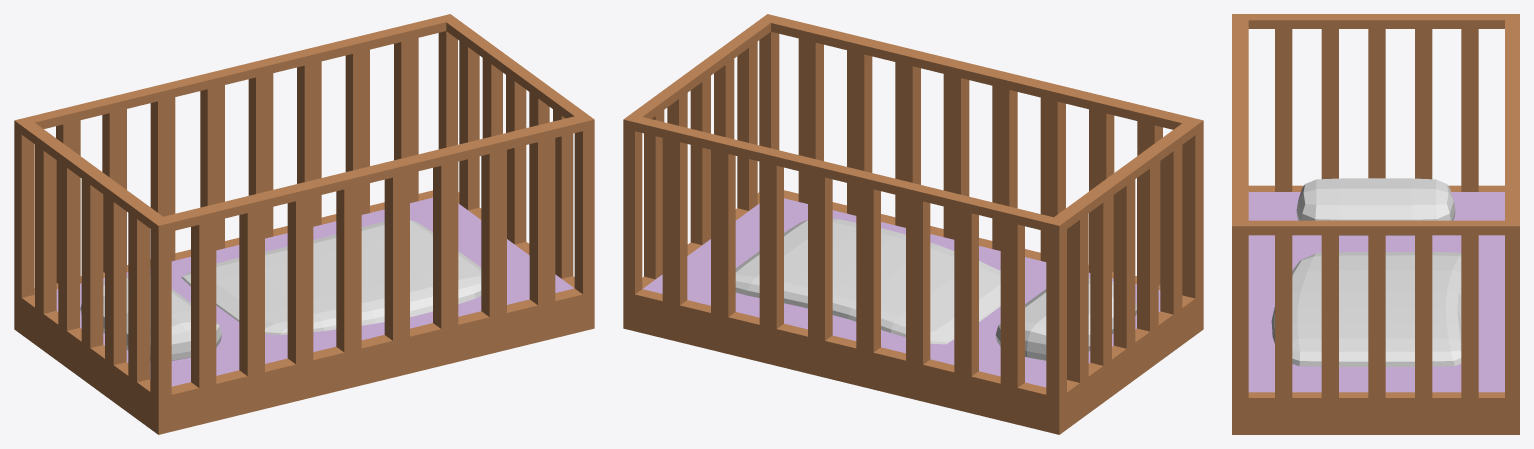
Rendered from bett.fbx.
The picture shows the model from 3 angles, left to right: view 1: azimuth 30°, elevation 25°; view 2: azimuth 150°, elevation 25°; view 3: azimuth 270°, elevation 25°; orthographic projection.
Parts seen in each view (by area): view 1: Cube, Cube.002, Cube.001; view 2: Cube, Cube.002, Cube.001; view 3: Cube, Cube.002, Cube.001.
Boxes of the visible parts, bbox=[...] form: Cube: bbox=[14, 14, 594, 434]; Cube.002: bbox=[181, 220, 481, 335]; Cube.001: bbox=[80, 276, 221, 360]; Cube: bbox=[623, 14, 1203, 434]; Cube.002: bbox=[735, 218, 1000, 344]; Cube.001: bbox=[995, 276, 1136, 360]; Cube: bbox=[1232, 14, 1519, 434]; Cube.002: bbox=[1271, 252, 1461, 366]; Cube.001: bbox=[1296, 178, 1455, 235].
Size of the model in its own units: 349 by 160 by 200.
